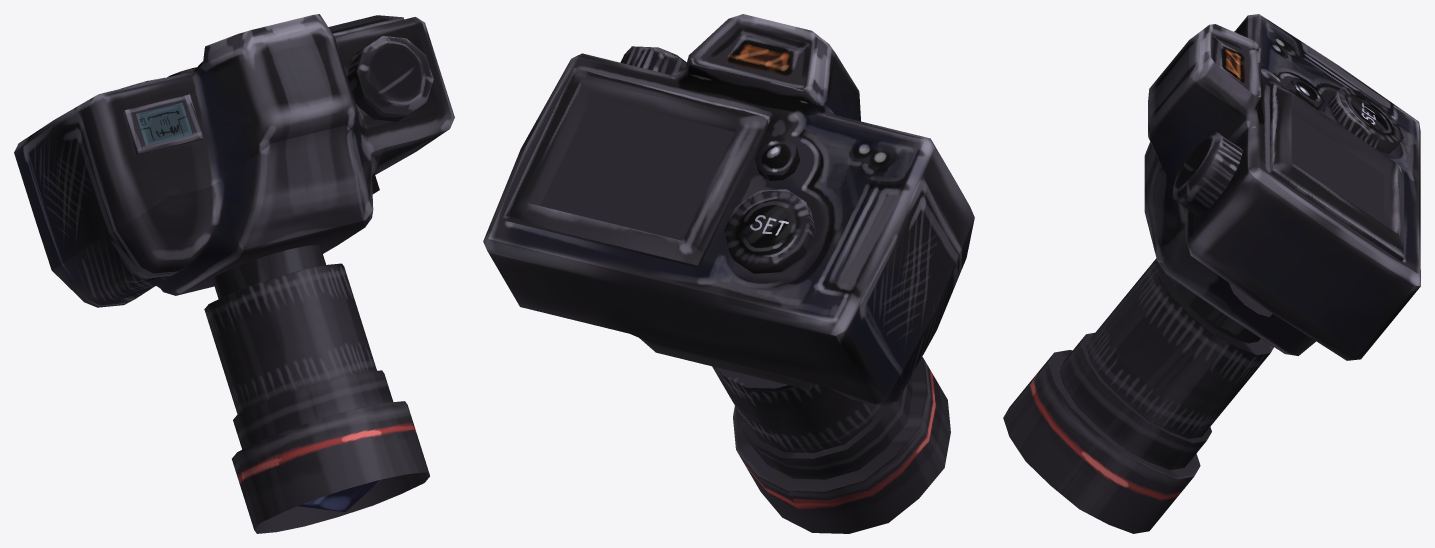
File: cameraModel.fbx
3 renders of one model, left to right at view 1: azimuth 30°, elevation 25°; view 2: azimuth 150°, elevation 25°; view 3: azimuth 270°, elevation 25°, orthographic. The views are drawn at different scales.
Visible parts, largest first — view 1: Cylinder.009; view 2: Cylinder.009; view 3: Cylinder.009.
Boxes of the visible parts, x1,y1,x2,y2 form: Cylinder.009: (14,14,454,533); Cylinder.009: (483,14,974,533); Cylinder.009: (1003,14,1420,533).
Bounding box in the file's own units: 80.55 × 109 × 85.44.
